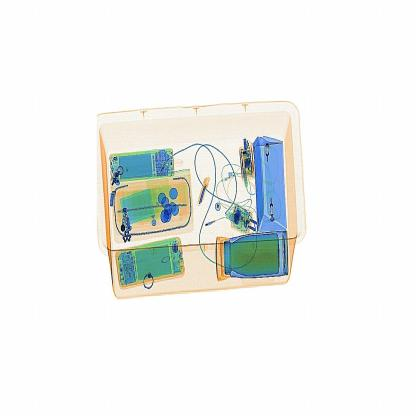wrench: (189, 171, 213, 213)
